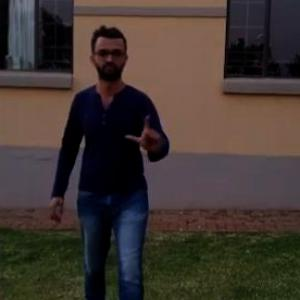land_hand: (122, 113, 167, 151)
